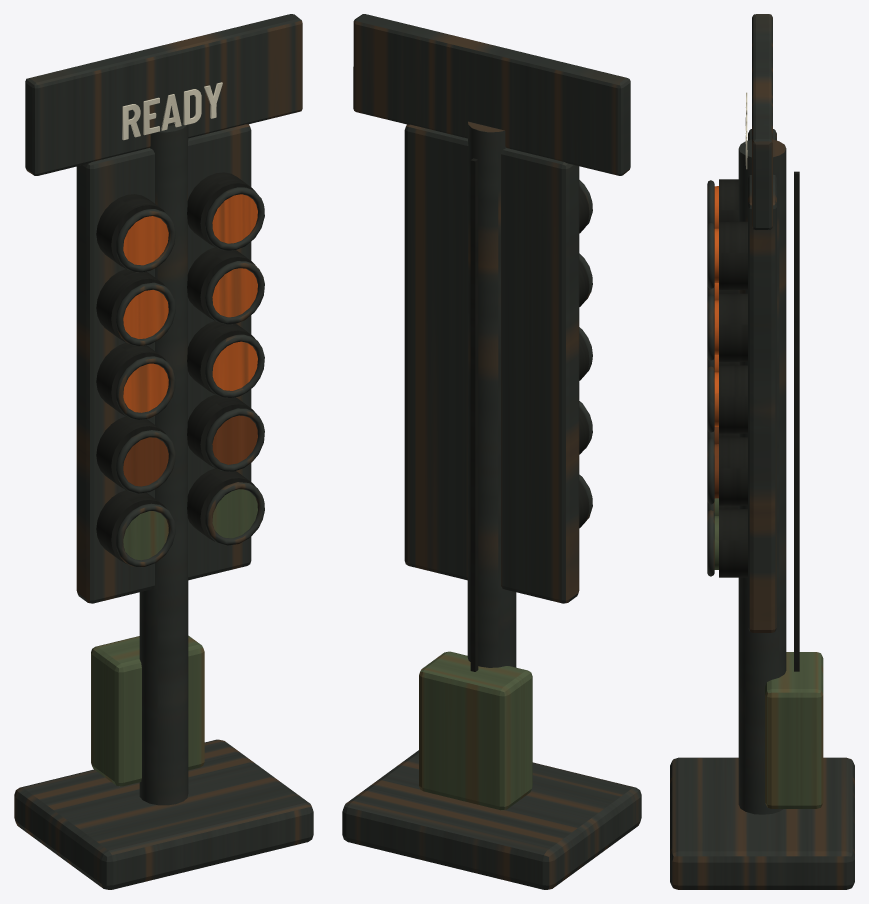
The model's file is launch-tree-lod.obj.
3 views of the same model, side by side, from view 1: azimuth 30°, elevation 25°; view 2: azimuth 150°, elevation 25°; view 3: azimuth 270°, elevation 25° (orthographic). The views are drawn at different scales.
Parts seen in each view (by area): view 1: launch-tree.001; view 2: launch-tree.001; view 3: launch-tree.001.
Part boxes in pixels (<box>): launch-tree.001: <box>14,14,313,889</box>; launch-tree.001: <box>342,14,641,889</box>; launch-tree.001: <box>670,14,854,889</box>.
Size of the model in its own units: 1.15 by 3.2 by 0.7.
1 material, 1 textured.
